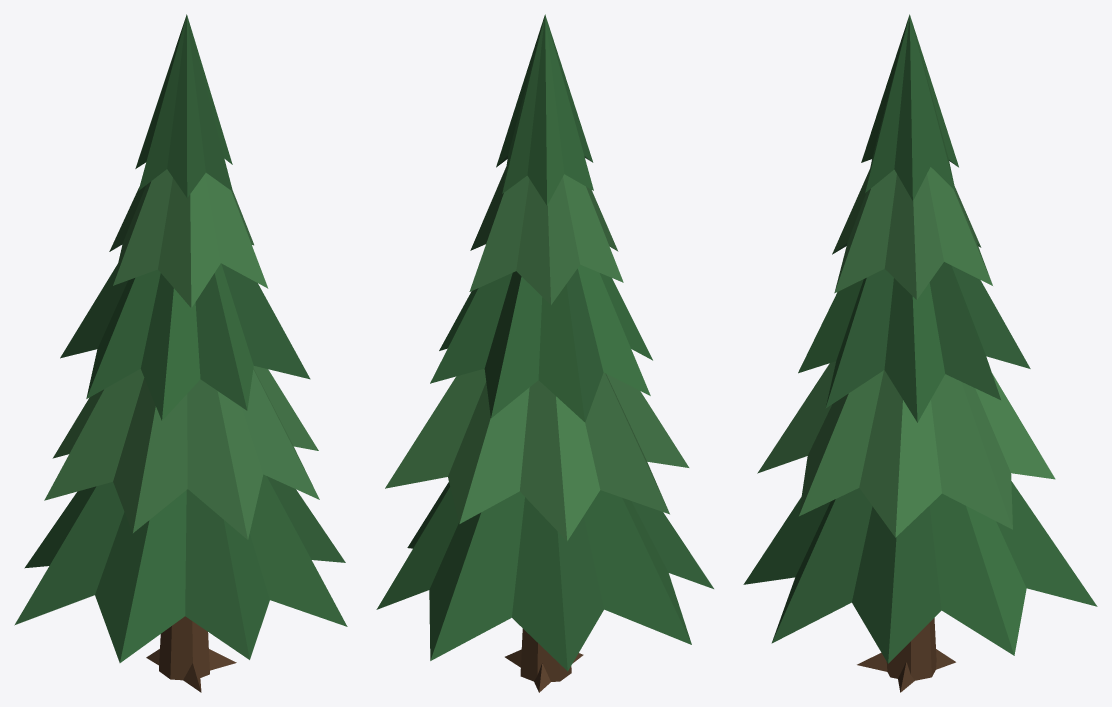
Rendered from pine_a.glb.
3 renders of one model, left to right at view 1: azimuth 30°, elevation 25°; view 2: azimuth 150°, elevation 25°; view 3: azimuth 270°, elevation 25°, orthographic.
Parts seen in each view (by area): view 1: pine_a; view 2: pine_a; view 3: pine_a.
Part boxes in pixels (bbox=[...]): pine_a: bbox=[14, 14, 347, 692]; pine_a: bbox=[376, 14, 713, 692]; pine_a: bbox=[743, 14, 1097, 692].
Bounding box in the file's own units: 2.95 × 6 × 2.93.
Materials: 1 (1 with a texture image).
